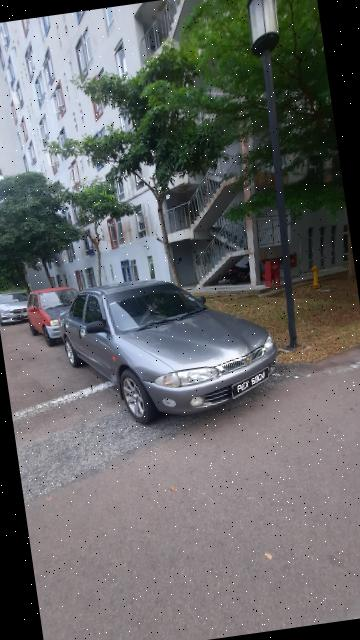License_Plate: (225, 362, 283, 403)
car: (53, 262, 289, 438)
